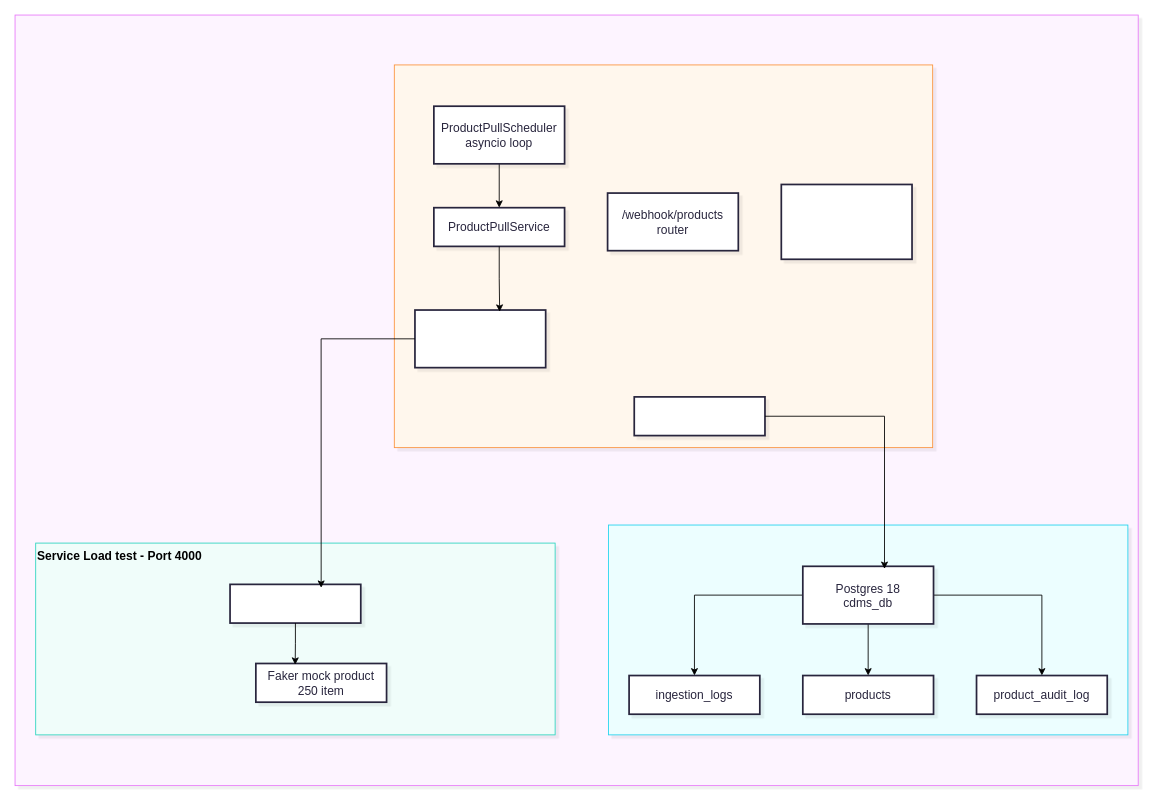
Some shapes in this 1157 by 804 pixel diagram are drawn without their labels. Here are the shapes that lost their labels. From the top down, the centre of each, then its label:
At (848,223): "/excel/product-import router".
At (482,340): "LoadTestHttp httpx".
At (701,417): "ProductHashService".
At (297,605): "Product".
